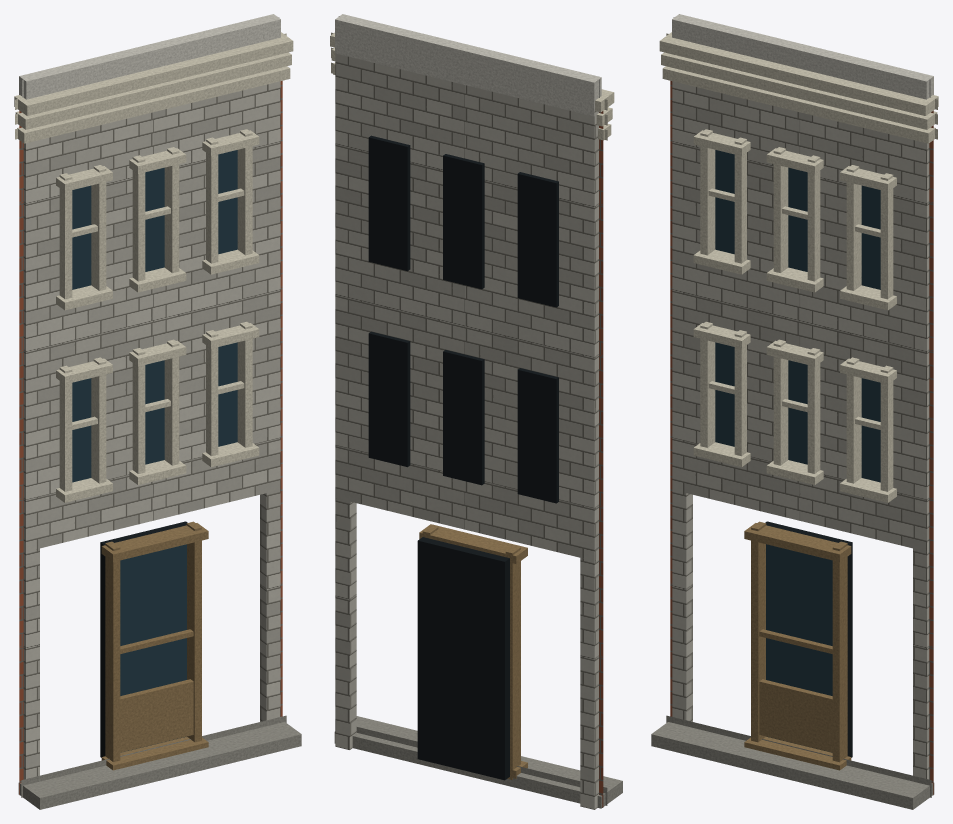
File: OFFC19_lod2.glb
3 views of the same model, side by side, from view 1: azimuth 30°, elevation 25°; view 2: azimuth 150°, elevation 25°; view 3: azimuth 330°, elevation 25° (orthographic).
Visible parts, largest first — view 1: OFFC19_FRONT_LOD2; view 2: OFFC19_FRONT_LOD2; view 3: OFFC19_FRONT_LOD2.
Part boxes in pixels (x1,y1,x2,y2): OFFC19_FRONT_LOD2: (14, 14, 301, 809); OFFC19_FRONT_LOD2: (330, 14, 622, 809); OFFC19_FRONT_LOD2: (651, 14, 938, 809).
Bounding box in the file's own units: 3.84 × 9.66 × 0.68.
Materials: 9 (7 with a texture image).
